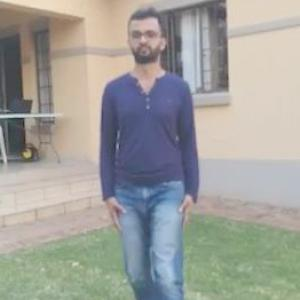follow: (100, 3, 197, 284)
